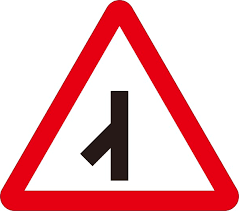Fork_road: (1, 2, 238, 210)
